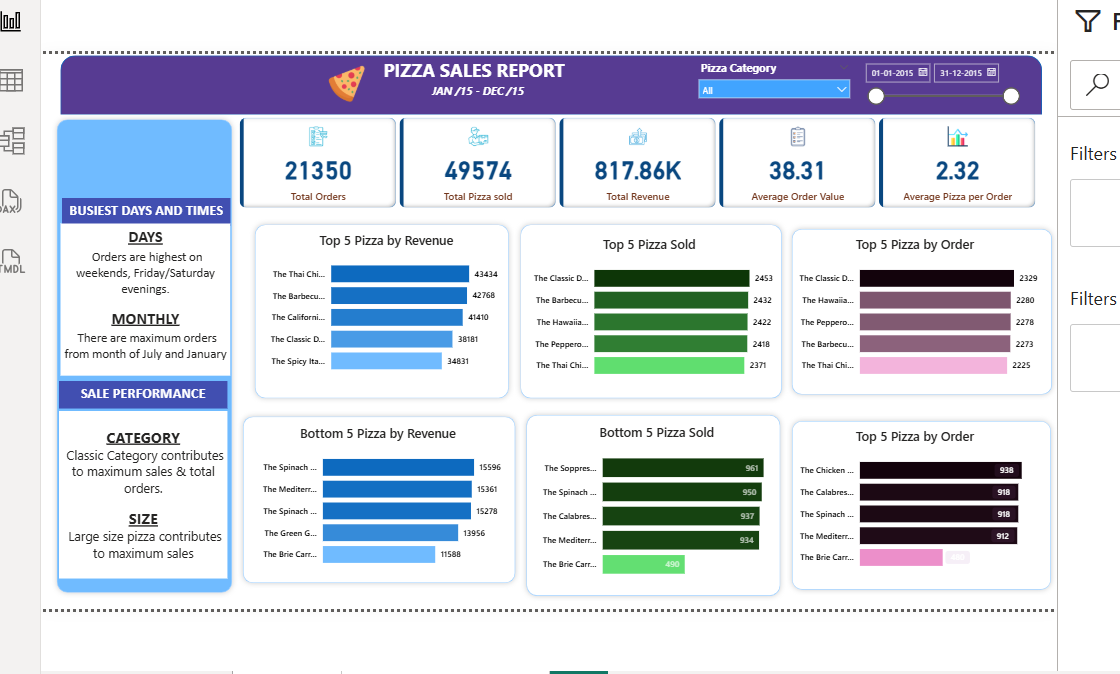

The page's visual inventory and layout, read from the dashboard file:
{"tool":"powerbi","page":{"name":"Best/Worst sallers","canvas":[1500,820],"ordinal":1},"visuals":[{"type":"shape","box":[29.1,1.8,1449.1,87.3],"z":0},{"type":"cardVisual","fields":{"Data":["pizza_sales.Total Orders","pizza_sales.Total Pizza sold","pizza_sales.Total Revenue","pizza_sales.Average Order Value","pizza_sales.Average Pizza per Order"]},"box":[288.7,88.7,1187.1,143.5],"z":1000},{"type":"shape","box":[16.4,89.1,274.5,714.5],"z":2000},{"type":"textbox","box":[500,0,296,62],"z":3000},{"type":"textbox","box":[572,38,178,50],"z":4000},{"type":"image","box":[403.4,10.3,96.6,65.5],"z":5000},{"type":"shape","box":[290.9,527.3,418.2,262.1],"z":6000},{"type":"shape","box":[709.1,524.2,390.9,283.3],"z":7000},{"type":"shape","box":[1100,533.3,398.5,265.2],"z":8000},{"type":"textbox","box":[31.4,212.1,249,40.6],"z":9000},{"type":"textbox","box":[29.5,250.8,250.8,225],"z":10000},{"type":"textbox","box":[27.7,527.4,249,247.1],"z":11000},{"type":"textbox","box":[27.7,483.2,249,40.6],"z":12000},{"type":"slicer","fields":{"Values":["pizza_sales.pizza_category"]},"box":[960.8,3.7,243.4,77.5],"z":13000},{"type":"slicer","fields":{"Values":["pizza_sales.order_date"]},"box":[1204.2,3.7,249,73.8],"z":14000},{"type":"shape","box":[307.6,243.9,390.9,272.7],"z":15000},{"type":"shape","box":[698.9,243.4,402,272.9],"z":16000},{"type":"shape","box":[1100,250,400,260.6],"z":17000},{"type":"barChart","title":"Top 5 Pizza by Revenue","fields":{"Category":["pizza_sales.pizza_name"],"Y":["pizza_sales.Total Revenue"]},"box":[321,261.3,377.4,222.6],"z":18000},{"type":"barChart","title":"Bottom 5 Pizza by Revenue","fields":{"Category":["pizza_sales.pizza_name"],"Y":["pizza_sales.Total Revenue"]},"box":[307.6,547,378.8,222.7],"z":19000},{"type":"barChart","title":"Top 5 Pizza Sold","fields":{"Category":["pizza_sales.pizza_name"],"Y":["pizza_sales.Total Pizza sold"]},"box":[709.1,268.2,378.8,222.7],"z":20000},{"type":"barChart","title":"Bottom 5 Pizza Sold","fields":{"Category":["pizza_sales.pizza_name"],"Y":["pizza_sales.Total Pizza sold"]},"box":[721.2,545.5,374.2,242.4],"z":21000},{"type":"barChart","title":"Top 5 Pizza by Order","fields":{"Category":["pizza_sales.pizza_name"],"Y":["pizza_sales.Total Orders"]},"box":[1100,268.2,378.8,222.7],"z":21001},{"type":"barChart","title":"Top 5 Pizza by Order","fields":{"Category":["pizza_sales.pizza_name"],"Y":["pizza_sales.Total Orders"]},"box":[1100,551.5,378.8,222.7],"z":21002}]}

Visuals, with their boxes on the page's 1500x820 design canvas (x1, y1, x2, y2). These are canvas units, not pixel positions in the 1120x674 screenshot, which may show the page scaled, cropped or inside an application window:
shape: <region>29, 2, 1478, 89</region>
cardVisual - pizza_sales.Total Orders x pizza_sales.Total Pizza sold: <region>289, 89, 1476, 232</region>
shape: <region>16, 89, 291, 804</region>
textbox: <region>500, 0, 796, 62</region>
textbox: <region>572, 38, 750, 88</region>
image: <region>403, 10, 500, 76</region>
shape: <region>291, 527, 709, 789</region>
shape: <region>709, 524, 1100, 808</region>
shape: <region>1100, 533, 1498, 798</region>
textbox: <region>31, 212, 280, 253</region>
textbox: <region>30, 251, 280, 476</region>
textbox: <region>28, 527, 277, 774</region>
textbox: <region>28, 483, 277, 524</region>
slicer - pizza_sales.pizza_category: <region>961, 4, 1204, 81</region>
slicer - pizza_sales.order_date: <region>1204, 4, 1453, 78</region>
shape: <region>308, 244, 698, 517</region>
shape: <region>699, 243, 1101, 516</region>
shape: <region>1100, 250, 1500, 511</region>
"Top 5 Pizza by Revenue" barChart: <region>321, 261, 698, 484</region>
"Bottom 5 Pizza by Revenue" barChart: <region>308, 547, 686, 770</region>
"Top 5 Pizza Sold" barChart: <region>709, 268, 1088, 491</region>
"Bottom 5 Pizza Sold" barChart: <region>721, 546, 1095, 788</region>
"Top 5 Pizza by Order" barChart: <region>1100, 268, 1479, 491</region>
"Top 5 Pizza by Order" barChart: <region>1100, 552, 1479, 774</region>
